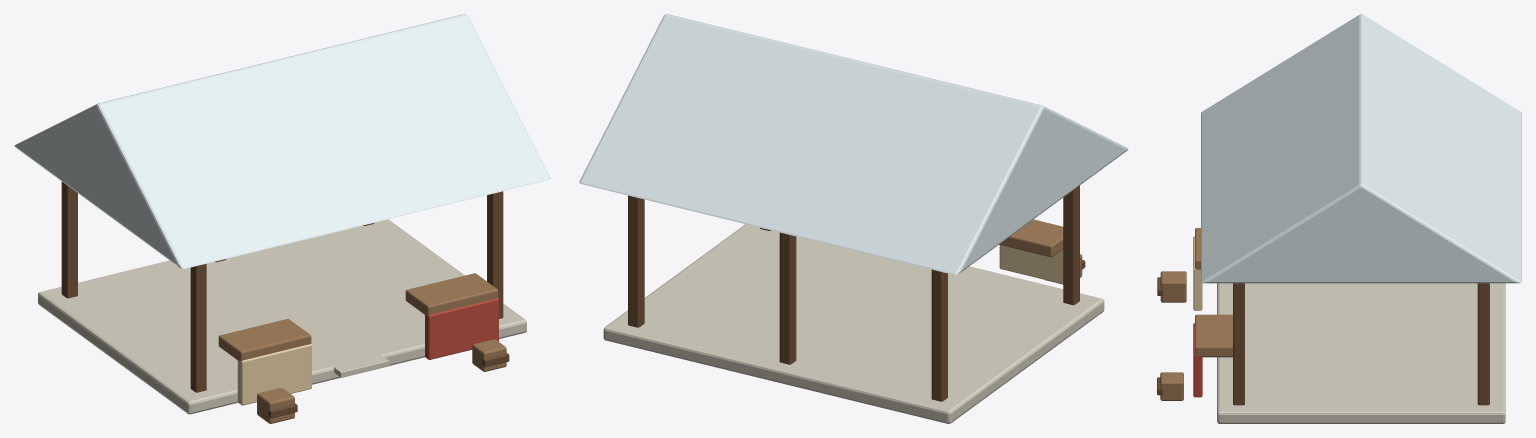
The model's file is snowy-market-0.glb.
3 views of the same model, side by side, from view 1: azimuth 30°, elevation 25°; view 2: azimuth 150°, elevation 25°; view 3: azimuth 270°, elevation 25° (orthographic). The views are drawn at different scales.
Visible parts, largest first — view 1: Snow, Cut limestone, Aged oak, Dark beams, Market red cloth, Market cream cloth; view 2: Snow, Cut limestone, Dark beams, Market cream cloth, Aged oak; view 3: Snow, Cut limestone, Aged oak, Dark beams, Market red cloth, Market cream cloth.
Part boxes in pixels (<box>): Snow: <box>14,14,550,269</box>; Cut limestone: <box>38,219,526,414</box>; Aged oak: <box>218,273,506,423</box>; Dark beams: <box>61,181,509,418</box>; Market red cloth: <box>425,298,498,359</box>; Market cream cloth: <box>237,344,311,405</box>; Snow: <box>579,14,1128,275</box>; Cut limestone: <box>603,224,1104,423</box>; Dark beams: <box>628,185,1085,401</box>; Market cream cloth: <box>999,245,1063,283</box>; Aged oak: <box>999,219,1082,284</box>; Snow: <box>1201,14,1521,283</box>; Cut limestone: <box>1217,283,1505,423</box>; Aged oak: <box>1160,228,1232,400</box>; Dark beams: <box>1157,277,1489,405</box>; Market red cloth: <box>1193,323,1202,397</box>; Market cream cloth: <box>1193,236,1202,310</box>.
Bounding box in the file's own units: 5.36 × 3.59 × 4.8.
